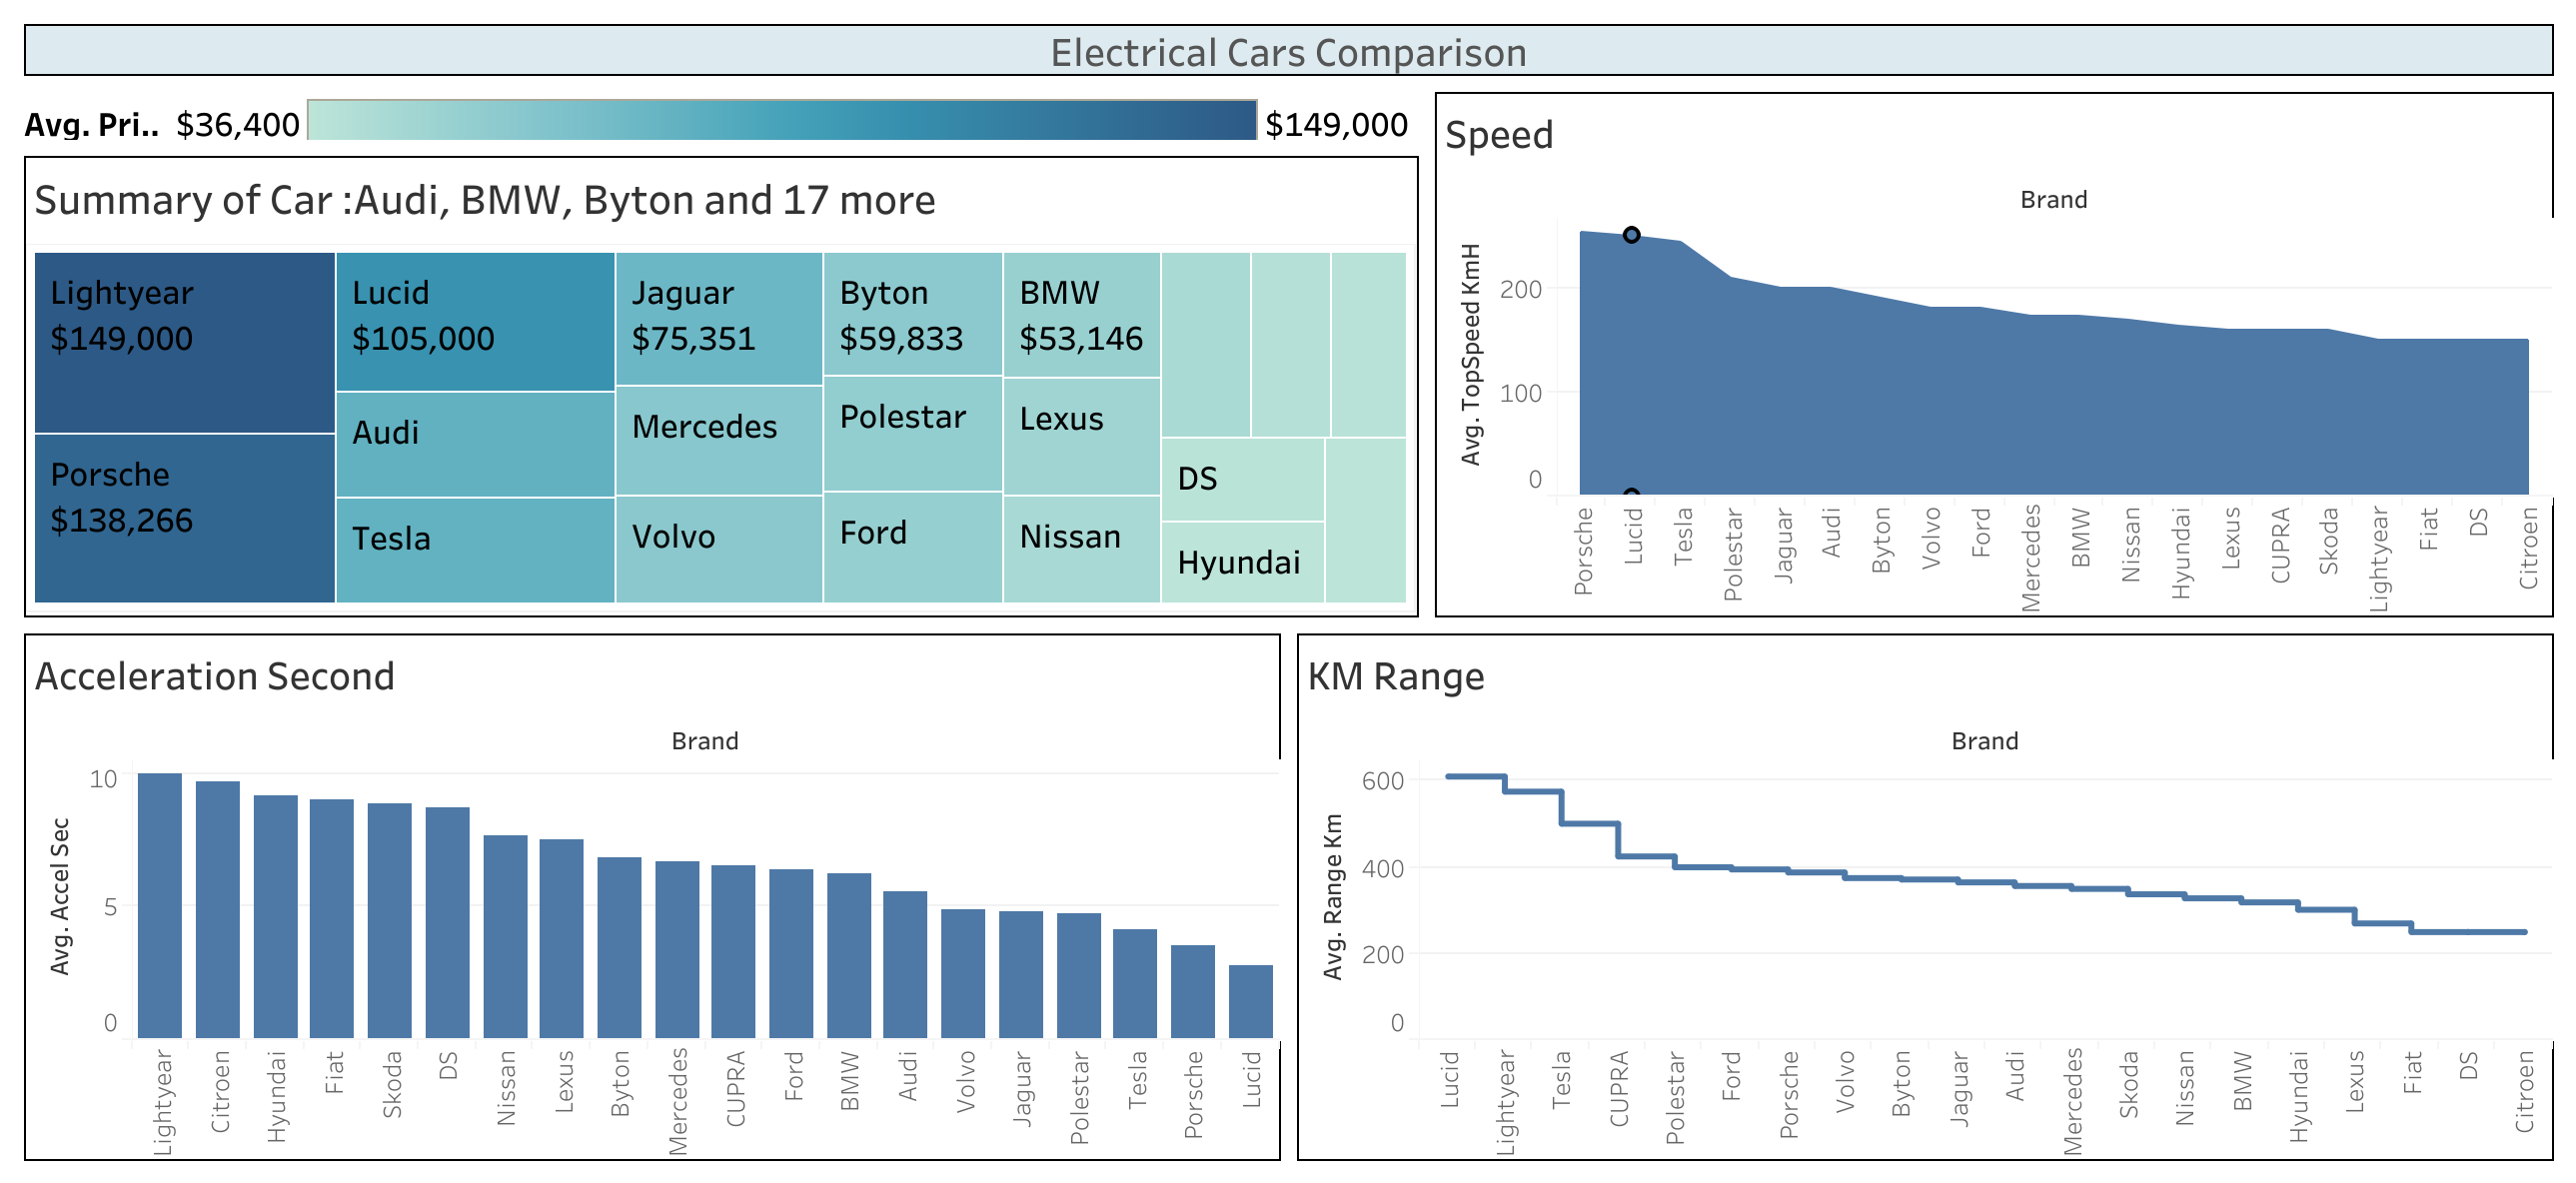

What the dashboard file says about the page in this screenshot:
{"tool":"tableau","page":{"name":"EV Comparison","canvas":[1000,1000],"units":"permille","ordinal":0},"visuals":[{"type":"text","box":[6.5,11.8,987,57.4]},{"type":"legend","title":"EV cars","param":"[federated.0dfa38s0ggxpkh14qe7qn0v2gknp].[avg:PriceEuro:qk]","box":[6.5,69.2,547,55]},{"type":"worksheet","title":"TOP SPEED","mark":"Area","rows":["TopSpeed_KmH"],"cols":["Brand"],"box":[553.5,69.2,440,459.5]},{"type":"worksheet","title":"EV cars","mark":"Automatic","box":[6.5,124.2,547,404.5]},{"type":"worksheet","title":"Accel Sec","mark":"Automatic","rows":["AccelSec"],"cols":["Brand"],"box":[6.5,528.7,493.5,459.5]},{"type":"worksheet","title":"RANGE KM","mark":"Line","rows":["Range_Km"],"cols":["Brand"],"box":[500,528.7,493.5,459.5]}]}

Visuals, with their boxes on the dashboard's canvas, which has no fixed pixel size, in thousandths of its width and height (x1, y1, x2, y2). These are canvas units, not pixel positions in the 2576x1183 screenshot, which may show the page scaled, cropped or inside an application window:
text: BBox(6, 12, 994, 69)
"EV cars" legend: BBox(6, 69, 554, 124)
"TOP SPEED" worksheet (Area marks): BBox(554, 69, 994, 529)
"EV cars" worksheet: BBox(6, 124, 554, 529)
"Accel Sec" worksheet: BBox(6, 529, 500, 988)
"RANGE KM" worksheet (Line marks): BBox(500, 529, 994, 988)
